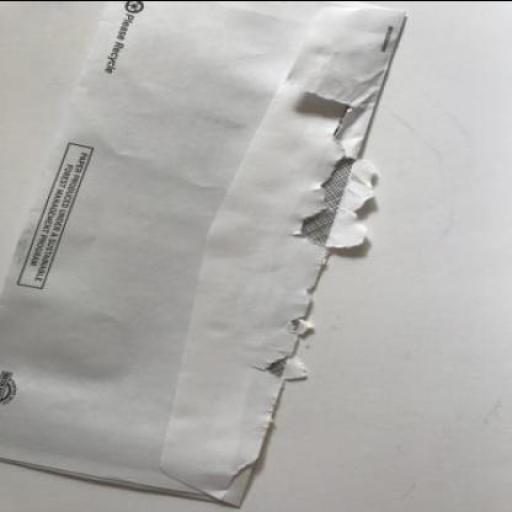paper: (1, 1, 411, 506)
